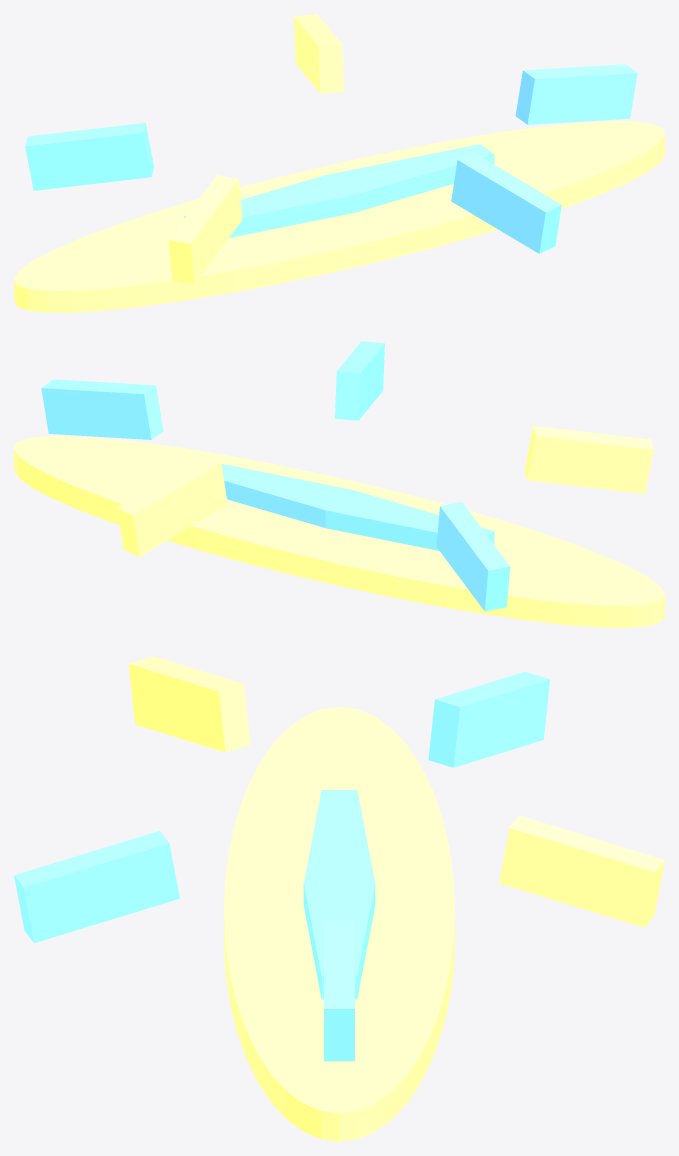
The model's file is hit_bone_rune.glb.
3 views of the same model, one above another, from view 1: azimuth 30°, elevation 25°; view 2: azimuth 150°, elevation 25°; view 3: azimuth 270°, elevation 25° (orthographic). The views are drawn at different scales.
Parts seen in each view (by area): view 1: hit bone rune contact ring, hit bone rune inner mark, hit bone rune tick 2, hit bone rune tick 0, hit bone rune tick 4, hit bone rune tick 3, hit bone rune tick 1; view 2: hit bone rune contact ring, hit bone rune inner mark, hit bone rune tick 3, hit bone rune tick 0, hit bone rune tick 1, hit bone rune tick 2, hit bone rune tick 4; view 3: hit bone rune contact ring, hit bone rune tick 1, hit bone rune tick 4, hit bone rune inner mark, hit bone rune tick 2, hit bone rune tick 3, hit bone rune tick 0.
Part boxes in pixels (<box>): hit bone rune contact ring: <box>14,121,664,312</box>; hit bone rune inner mark: <box>184,144,494,237</box>; hit bone rune tick 2: <box>25,122,153,190</box>; hit bone rune tick 0: <box>515,64,637,124</box>; hit bone rune tick 4: <box>451,152,561,253</box>; hit bone rune tick 3: <box>168,175,242,284</box>; hit bone rune tick 1: <box>294,14,343,93</box>; hit bone rune contact ring: <box>14,436,664,627</box>; hit bone rune inner mark: <box>198,459,494,550</box>; hit bone rune tick 3: <box>524,426,653,493</box>; hit bone rune tick 0: <box>41,379,163,439</box>; hit bone rune tick 1: <box>117,455,227,556</box>; hit bone rune tick 2: <box>436,502,510,611</box>; hit bone rune tick 4: <box>335,341,384,420</box>; hit bone rune contact ring: <box>224,706,454,1141</box>; hit bone rune tick 1: <box>499,815,664,927</box>; hit bone rune tick 4: <box>14,831,179,943</box>; hit bone rune inner mark: <box>303,790,375,999</box>; hit bone rune tick 2: <box>428,671,550,767</box>; hit bone rune tick 3: <box>128,656,250,752</box>; hit bone rune tick 0: <box>324,919,354,1061</box>.
Size of the model in its own units: 0.68 by 0.1197 by 0.4596.
